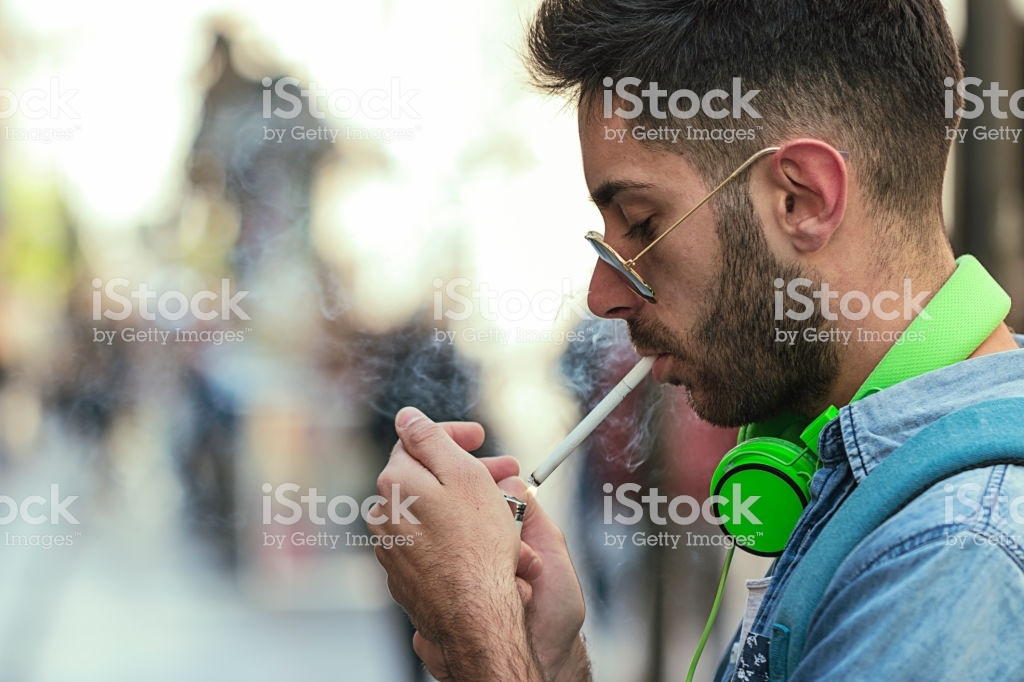sigaretta: (530, 343, 662, 495)
